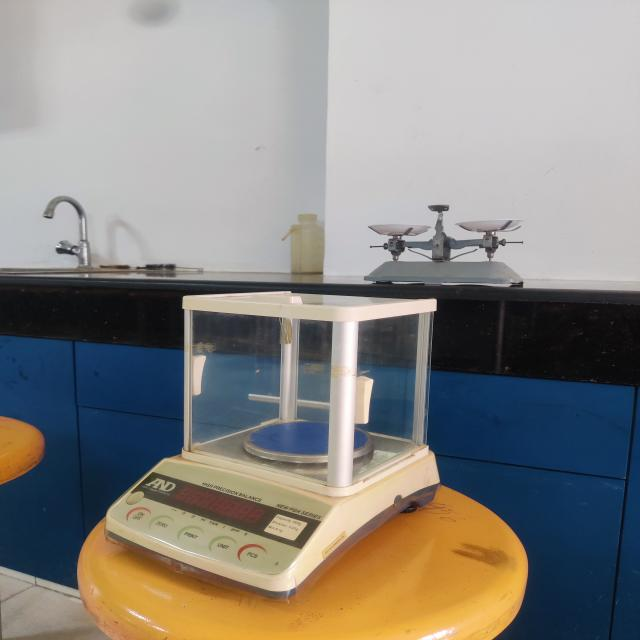Mechanical_Balance_Scale: (348, 192, 534, 294)
Precision_Weight_Scale: (79, 282, 449, 635)
